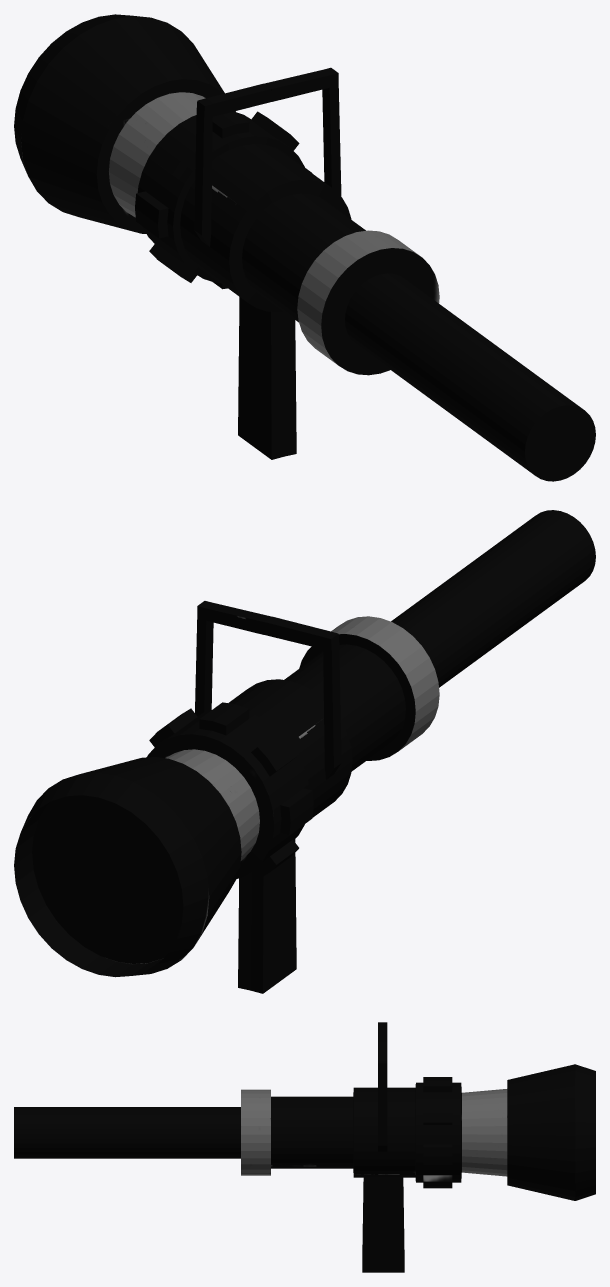
The model's file is VodnoOrozje.gltf.
The picture shows the model from 3 angles, top to bottom: view 1: azimuth 30°, elevation 25°; view 2: azimuth 150°, elevation 25°; view 3: azimuth 270°, elevation 25°; orthographic projection. The views are drawn at different scales.
Parts seen in each view (by area): view 1: Cylinder.002; view 2: Cylinder.002; view 3: Cylinder.002.
Part boxes in pixels (bbox=[...]): Cylinder.002: bbox=[14, 14, 595, 481]; Cylinder.002: bbox=[14, 510, 595, 993]; Cylinder.002: bbox=[14, 1022, 595, 1272].
Size of the model in its own units: 0.604 by 1.1 by 2.56.
1 material, 1 textured.
